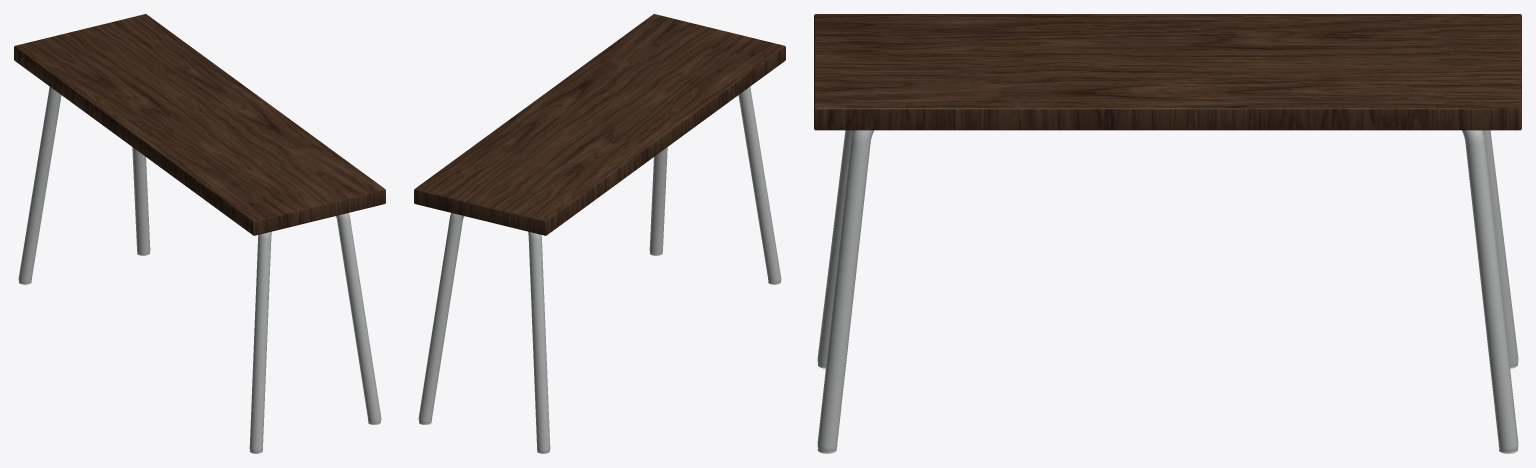
The model's file is table.glb.
3 views of the same model, side by side, from view 1: azimuth 30°, elevation 25°; view 2: azimuth 150°, elevation 25°; view 3: azimuth 270°, elevation 25° (orthographic). The views are drawn at different scales.
Visible parts, largest first — view 1: Cylinder; view 2: Cylinder; view 3: Cylinder.
Boxes of the visible parts, <box> form: Cylinder: <box>14,14,385,453</box>; Cylinder: <box>414,14,785,453</box>; Cylinder: <box>814,14,1521,453</box>.
Bounding box in the file's own units: 0.6365 × 1.08 × 2.
Materials: 1 (1 with a texture image).
